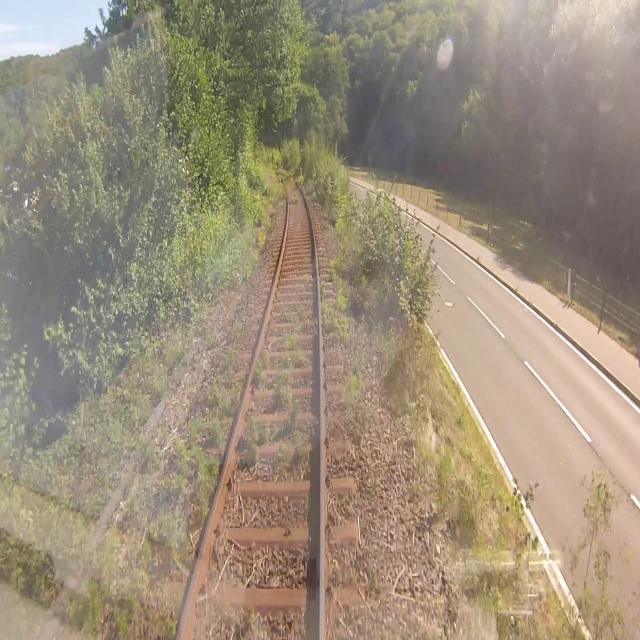Plant: (261, 161, 319, 248), (210, 342, 242, 418), (192, 439, 222, 519), (275, 330, 299, 425), (158, 503, 187, 568), (243, 415, 280, 465), (342, 345, 362, 408), (320, 302, 349, 340), (329, 254, 349, 309), (254, 349, 272, 385), (154, 609, 177, 634), (295, 437, 312, 468), (211, 417, 225, 447), (275, 441, 288, 473)
